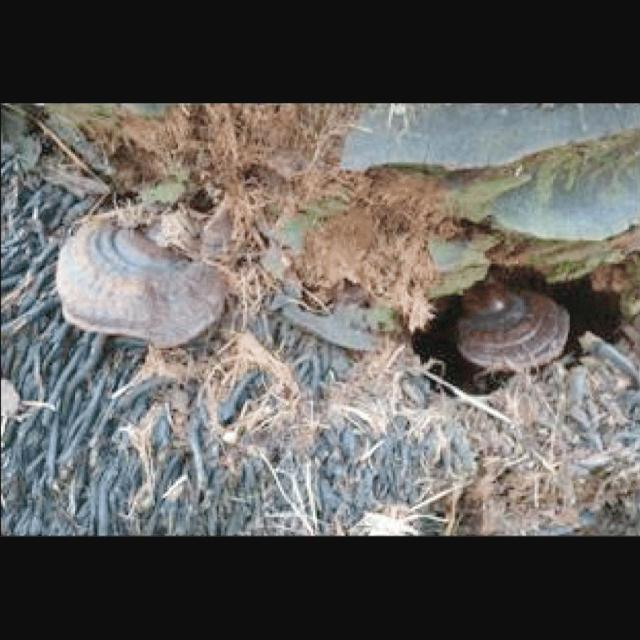ganoderma: (56, 212, 230, 352), (452, 280, 573, 375)
